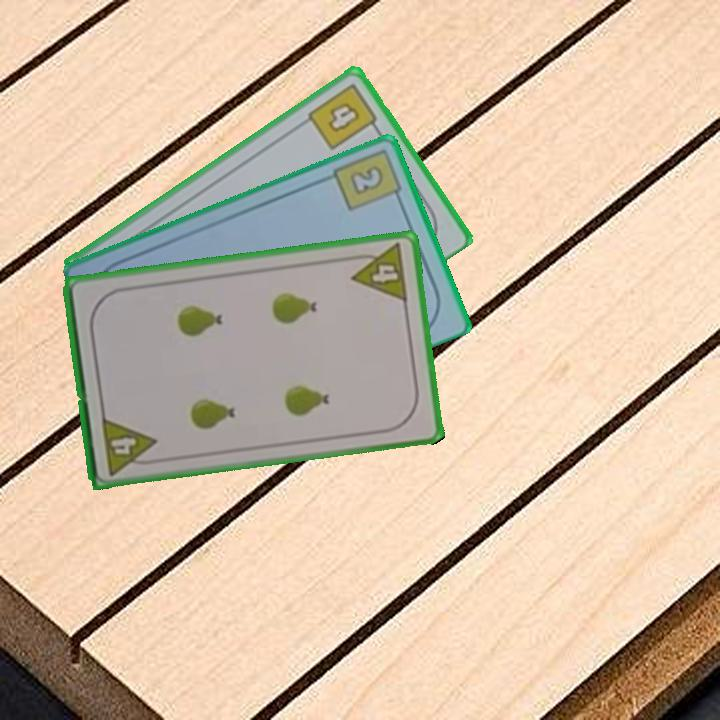2b: (329, 145, 406, 214)
4b: (304, 79, 383, 153)
4p: (346, 240, 411, 305), (98, 413, 161, 478)
